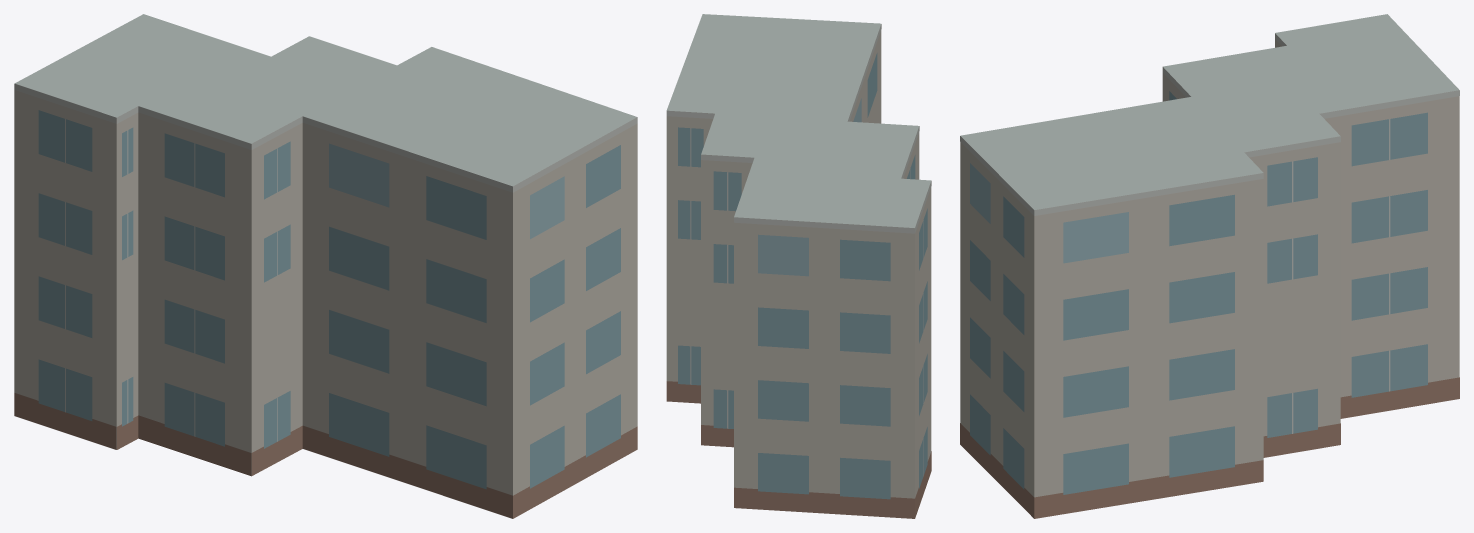
File: survey-upis-32638601.glb
3 views of the same model, side by side, from view 1: azimuth 30°, elevation 25°; view 2: azimuth 150°, elevation 25°; view 3: azimuth 270°, elevation 25° (orthographic). The views are drawn at different scales.
Visible parts, largest first — view 1: survey-upis-32638601.tmp; view 2: survey-upis-32638601.tmp; view 3: survey-upis-32638601.tmp.
Boxes of the visible parts, <box> form: survey-upis-32638601.tmp: <box>14,14,637,518</box>; survey-upis-32638601.tmp: <box>666,14,931,518</box>; survey-upis-32638601.tmp: <box>960,14,1459,518</box>.
Bounding box in the file's own units: 17.46 × 12.8 × 18.79.
